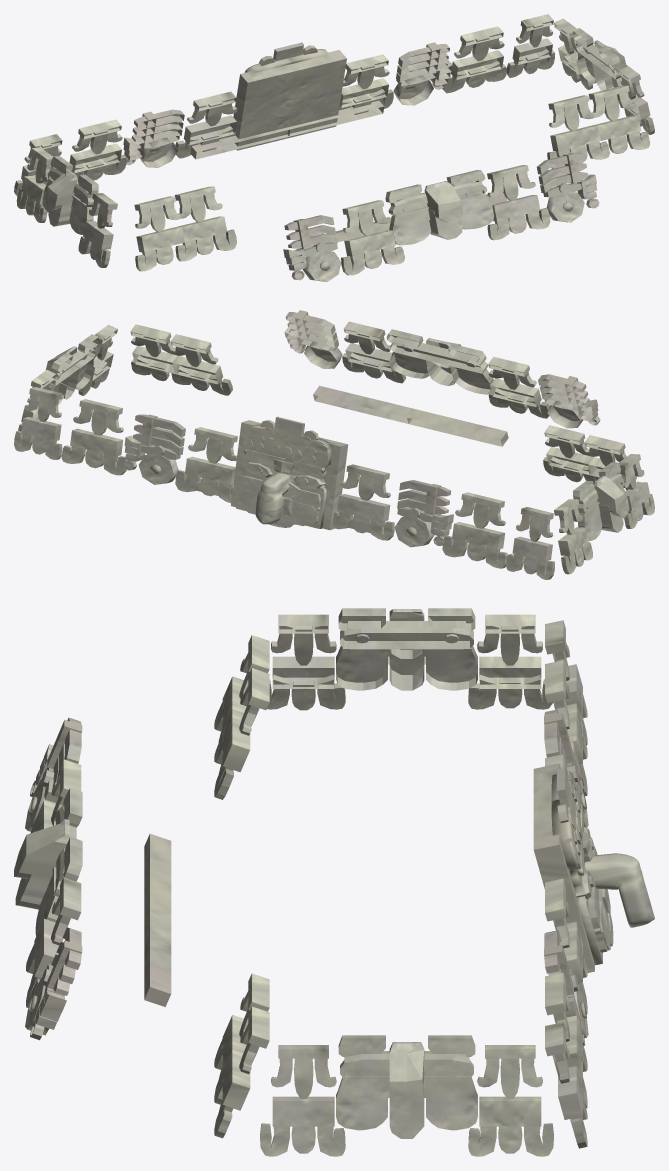
File: fortress_masks.dae
3 views of the same model, one above another, from view 1: azimuth 30°, elevation 25°; view 2: azimuth 150°, elevation 25°; view 3: azimuth 270°, elevation 25° (orthographic). The views are drawn at different scales.
Visible parts, largest first — view 1: fortress_masks; view 2: fortress_masks; view 3: fortress_masks.
Boxes of the visible parts, left/top/right/bottom form: fortress_masks: left=14, top=14, right=654, bottom=281; fortress_masks: left=14, top=310, right=654, bottom=579; fortress_masks: left=14, top=608, right=654, bottom=1156.
Size of the model in its own units: 16.19 by 9.34 by 2.58.
